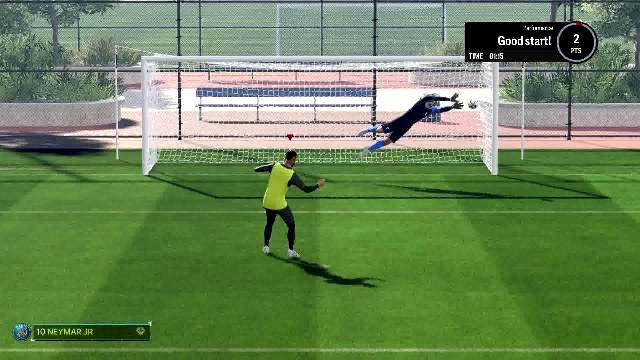bottom-left: (148, 118, 262, 174)
bottom-right: (374, 117, 488, 173)
center-down: (260, 120, 372, 178)
center-up: (260, 59, 376, 123)
football: (462, 96, 480, 111)
goalkeeper: (346, 94, 439, 174)
player: (264, 159, 320, 261)
top-left: (146, 61, 260, 117)
top-right: (376, 61, 490, 117)
